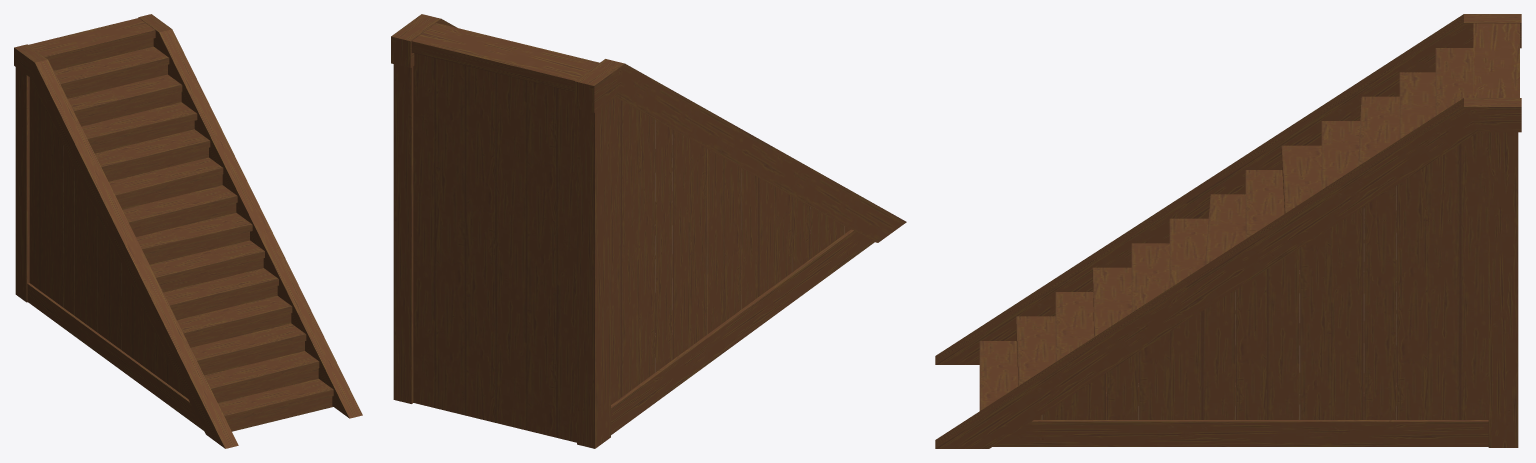
The model's file is Stair_Interior_Solid.glb.
The picture shows the model from 3 angles, left to right: view 1: azimuth 30°, elevation 25°; view 2: azimuth 150°, elevation 25°; view 3: azimuth 270°, elevation 25°; orthographic projection. The views are drawn at different scales.
Parts seen in each view (by area): view 1: Stair_Interior_Solid; view 2: Stair_Interior_Solid; view 3: Stair_Interior_Solid.
Part boxes in pixels (x1,y1,x2,y2): Stair_Interior_Solid: (14, 14, 362, 448); Stair_Interior_Solid: (391, 14, 906, 448); Stair_Interior_Solid: (935, 14, 1521, 448).
Bounding box in the file's own units: 1.77 × 3.05 × 4.71.
1 material, 1 textured.
